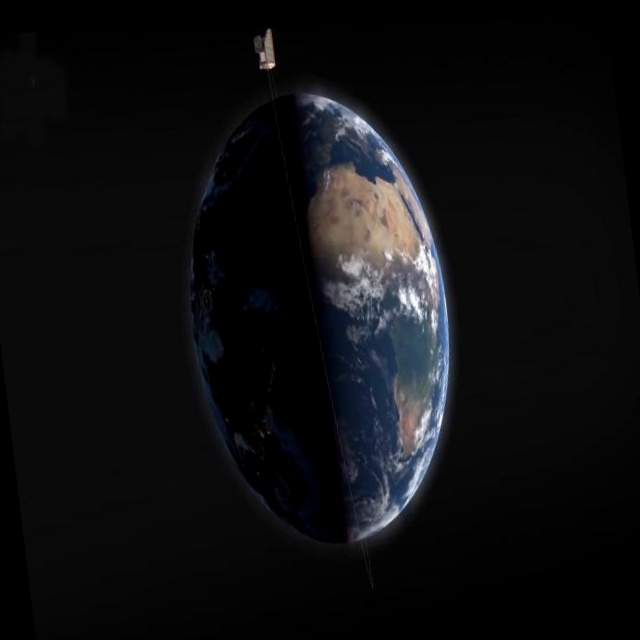satellite: (236, 3, 292, 91)
